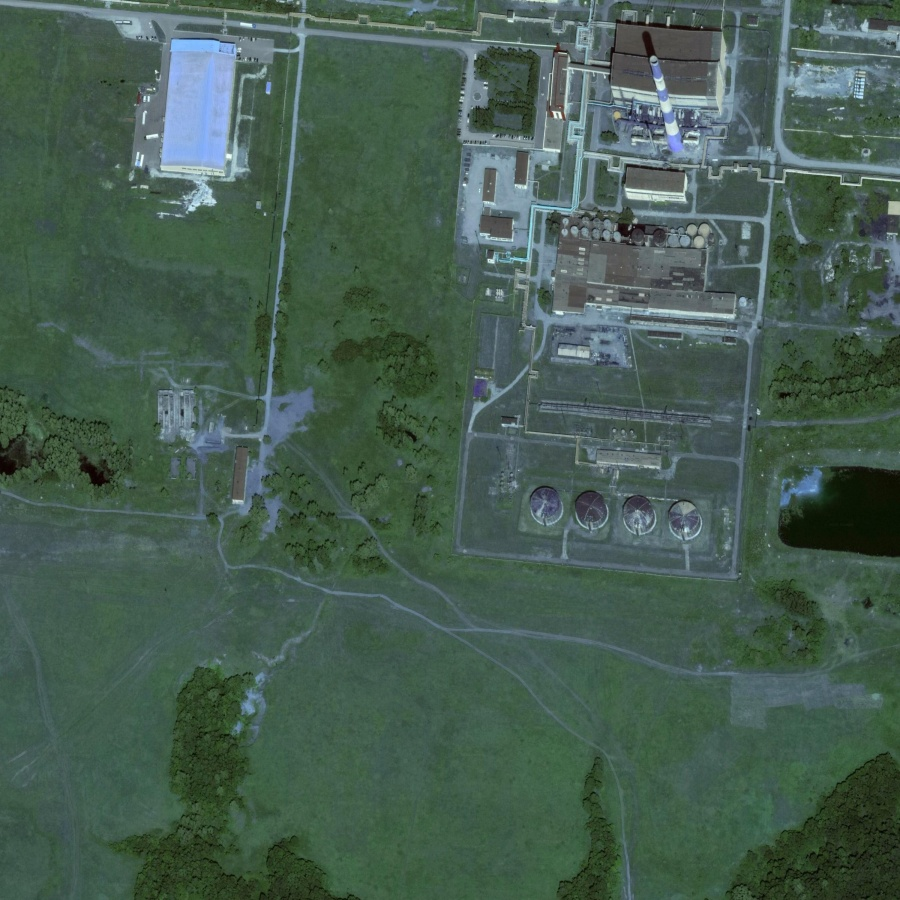PowerPlant: (523, 435, 734, 601)
